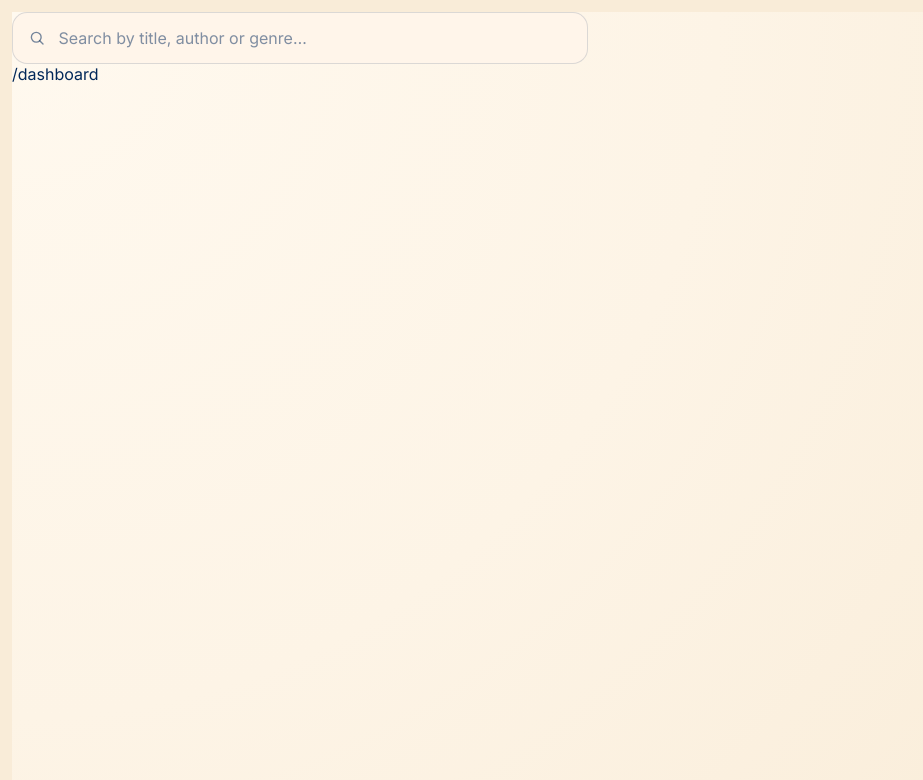
Test case: SearchSuggest › suggests collections whose name matches and opens the collection page
The width and height of the screenshot is (923, 780).
Type "dark" into the dropdown named "Search the archive" at (300, 38), box [12,12,588,64]
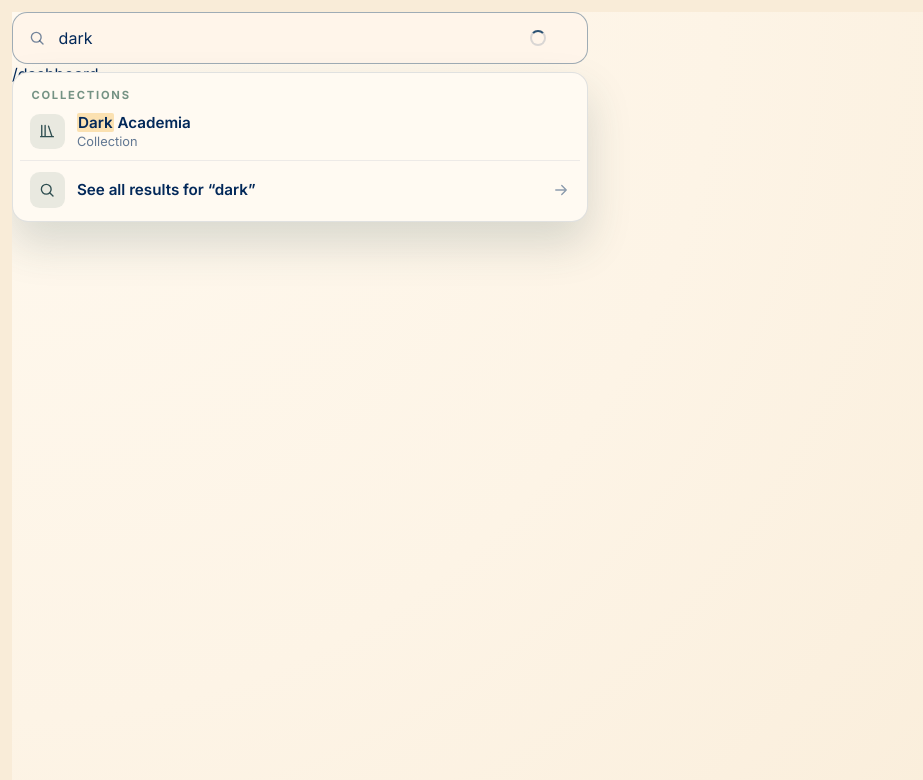
Click the option "Dark Academia Collection" at (110, 131), box [30,113,191,149]
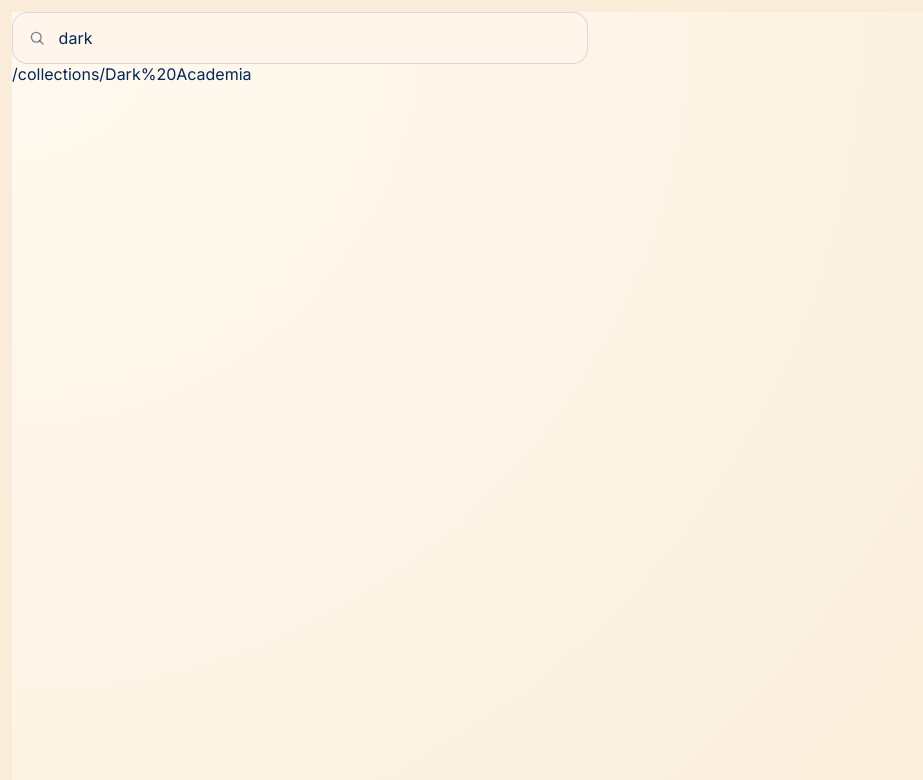
Expected: the text with test id "where" reads "/collections/Dark%20Academia", [12,64,252,84]
